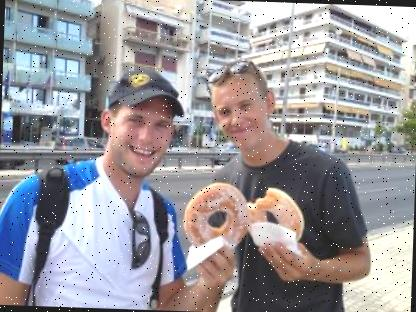person: (0, 58, 211, 312), (195, 52, 379, 312)
